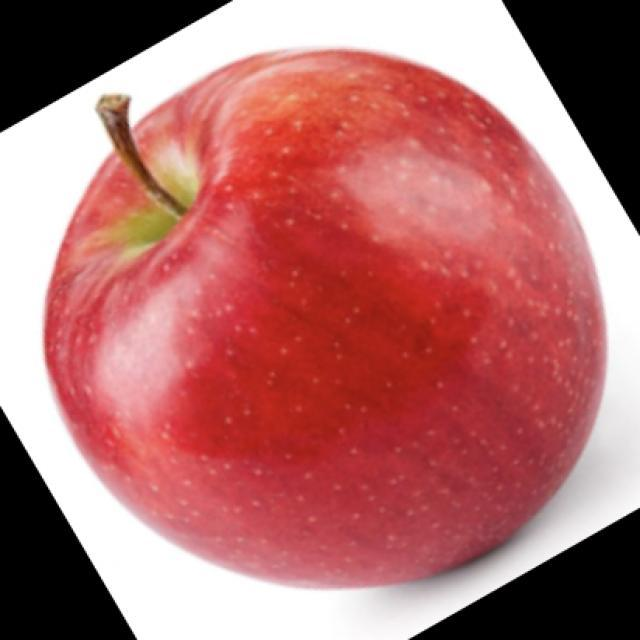Fresh Apple: (51, 47, 602, 593)
